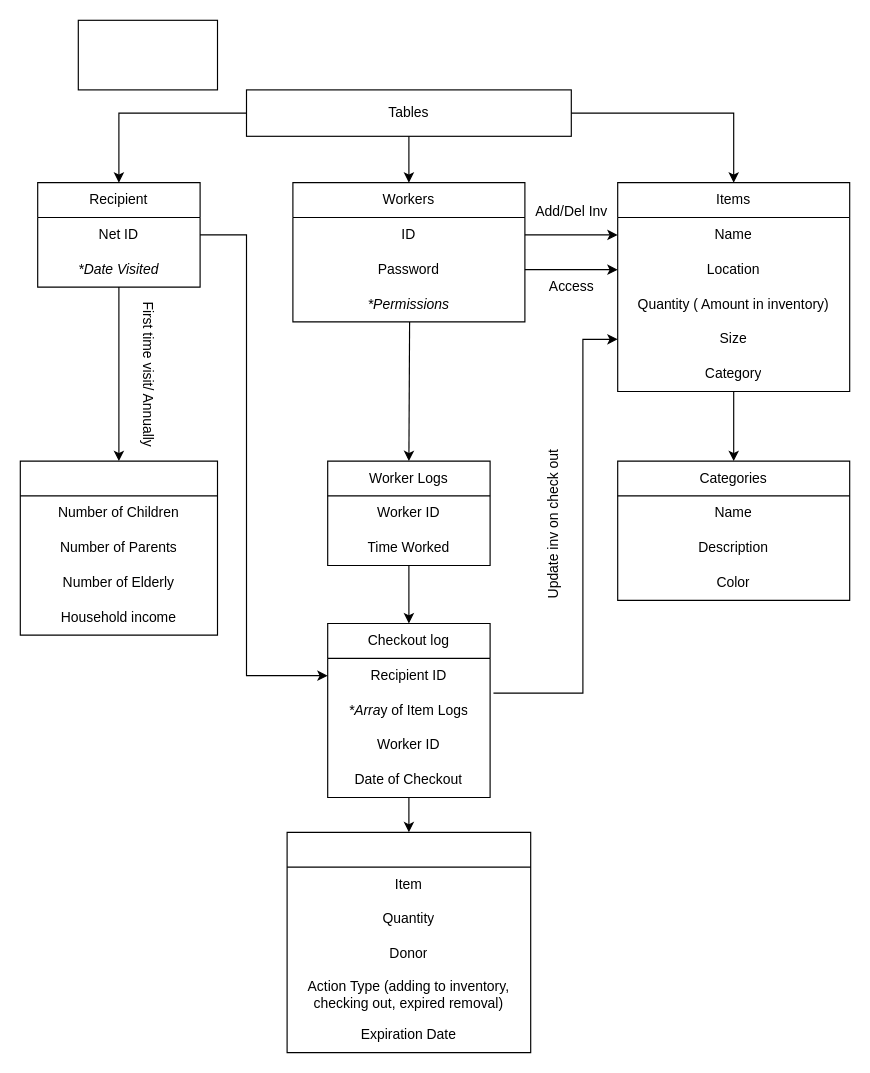
Image size: 870x1073. Some labels were removed from this diagram. The box of each missing label's shape, as (x1, y1, x2, y2) in pixels:
*Italicized members are yet to be implemented: (77, 19, 217, 90)
Demographics Form: (19, 460, 217, 635)
Item Log: (286, 831, 531, 1053)
